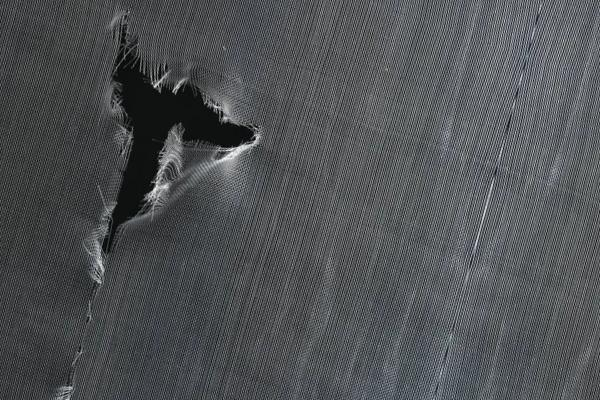hole: (91, 13, 266, 280)
